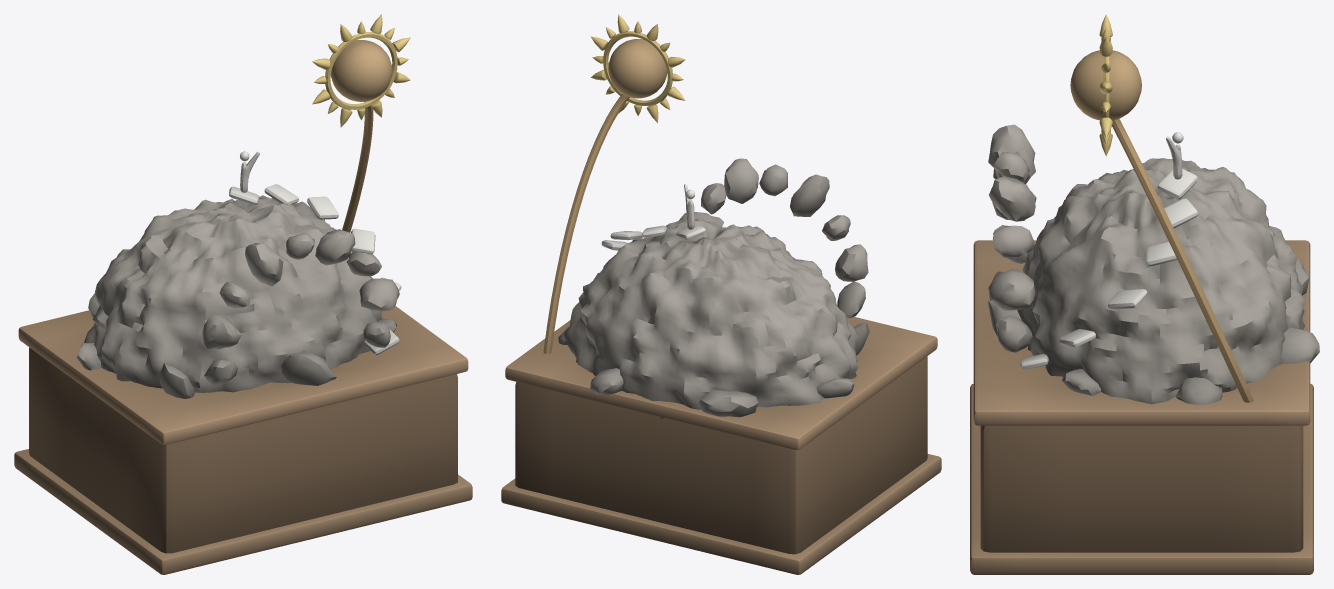
Rendered from obj_kit_cave.glb.
3 views of the same model, side by side, from view 1: azimuth 30°, elevation 25°; view 2: azimuth 150°, elevation 25°; view 3: azimuth 270°, elevation 25° (orthographic). The views are drawn at different scales.
Parts seen in each view (by area): view 1: Cube, Sphere, Cube.001, Cube.002, Sphere.002, Icosphere.005, Icosphere.012, sunpole, Torus, Icosphere.008, Icosphere.010, Icosphere.014 (+6 smaller); view 2: Cube, Sphere, Cube.001, Cube.002, Sphere.002, sunpole, Icosphere.002, Icosphere.010, Icosphere.012, Torus, Icosphere.014, Icosphere.015 (+5 smaller); view 3: Sphere, Cube, Cube.001, Cube.002, Sphere.002, sunpole, Icosphere.008, Icosphere.010, Icosphere.012, Icosphere.001, Icosphere.009, Icosphere.007 (+8 smaller).
Part boxes in pixels (<box>): Cube: <box>29,347,457,553</box>; Sphere: <box>84,195,382,392</box>; Cube.001: <box>18,305,468,444</box>; Cube.002: <box>14,449,472,574</box>; Sphere.002: <box>330,40,392,101</box>; Icosphere.005: <box>281,350,336,385</box>; Icosphere.012: <box>245,243,283,286</box>; sunpole: <box>342,101,373,232</box>; Torus: <box>325,32,397,109</box>; Icosphere.008: <box>359,278,399,310</box>; Icosphere.010: <box>315,229,355,265</box>; Icosphere.014: <box>202,315,241,349</box>; Cube: <box>515,356,927,554</box>; Sphere: <box>564,218,858,418</box>; Cube.001: <box>505,317,937,449</box>; Cube.002: <box>501,454,941,574</box>; Sphere.002: <box>608,39,667,98</box>; sunpole: <box>543,94,629,353</box>; Icosphere.002: <box>698,389,758,417</box>; Icosphere.010: <box>724,158,758,203</box>; Icosphere.012: <box>790,174,829,216</box>; Torus: <box>603,31,672,105</box>; Icosphere.014: <box>835,244,868,281</box>; Icosphere.015: <box>837,281,865,318</box>; Sphere: <box>1017,158,1305,404</box>; Cube: <box>980,425,1303,552</box>; Cube.001: <box>973,240,1310,425</box>; Cube.002: <box>970,383,1313,574</box>; Sphere.002: <box>1070,50,1141,120</box>; sunpole: <box>1112,119,1253,402</box>; Icosphere.008: <box>988,269,1034,310</box>; Icosphere.010: <box>989,176,1035,221</box>; Icosphere.012: <box>988,124,1035,184</box>; Icosphere.001: <box>1281,327,1319,363</box>; Icosphere.009: <box>993,225,1034,257</box>; Icosphere.007: <box>996,315,1032,352</box>.
Size of the model in its own units: 1.16 by 1.6 by 0.9765.
